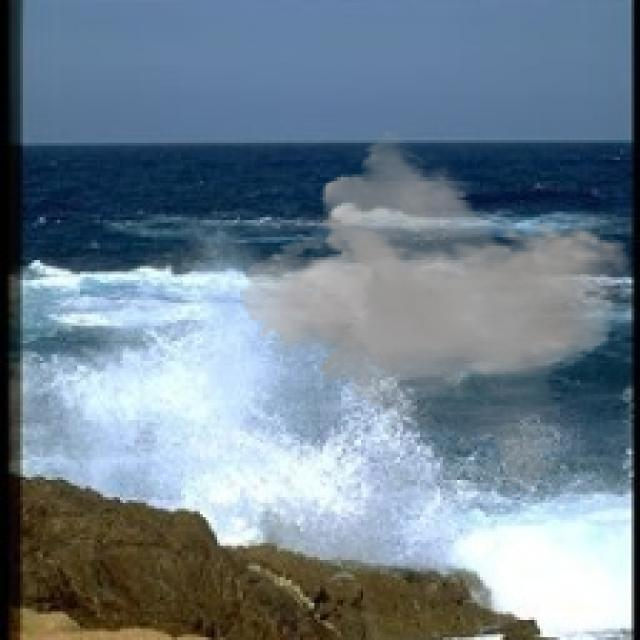Smoke: (239, 128, 632, 494)
